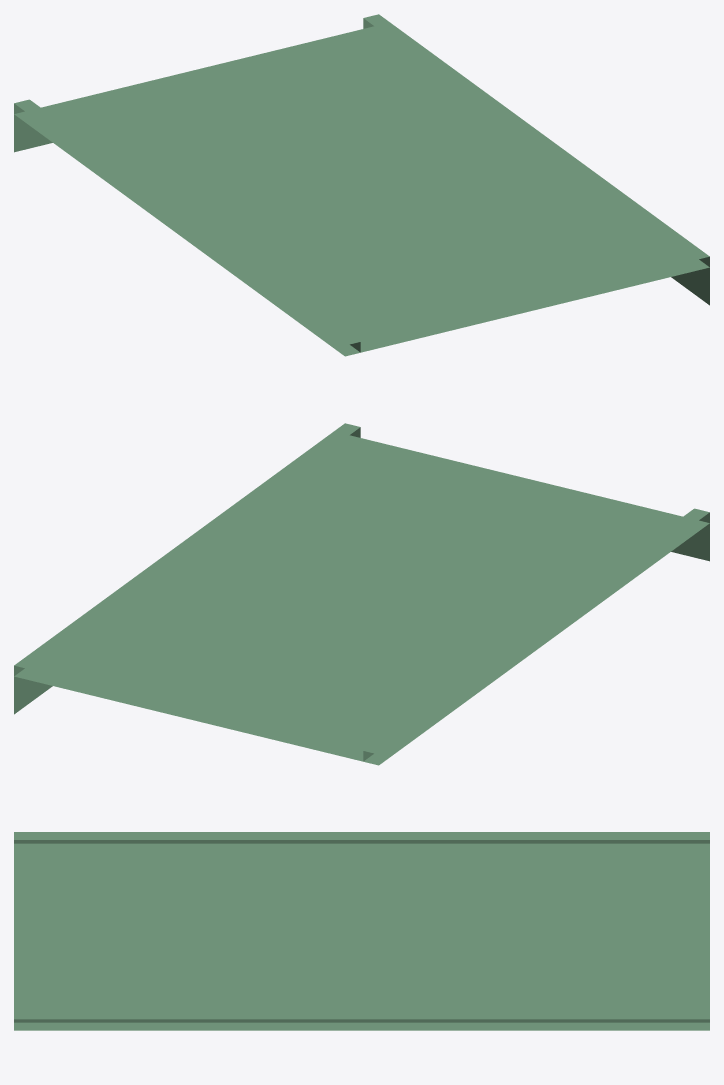
Rendered from terrain_chunk.glb.
The picture shows the model from 3 angles, top to bottom: view 1: azimuth 30°, elevation 25°; view 2: azimuth 150°, elevation 25°; view 3: azimuth 270°, elevation 25°; orthographic projection. The views are drawn at different scales.
Parts seen in each view (by area): view 1: TerrainChunk; view 2: TerrainChunk; view 3: TerrainChunk.
Part boxes in pixels (box(x1,y1,x2,y2)): TerrainChunk: box(14, 14, 709, 356); TerrainChunk: box(14, 423, 709, 765); TerrainChunk: box(14, 832, 709, 1030).
Bounding box in the file's own units: 14 × 1.8 × 22.
